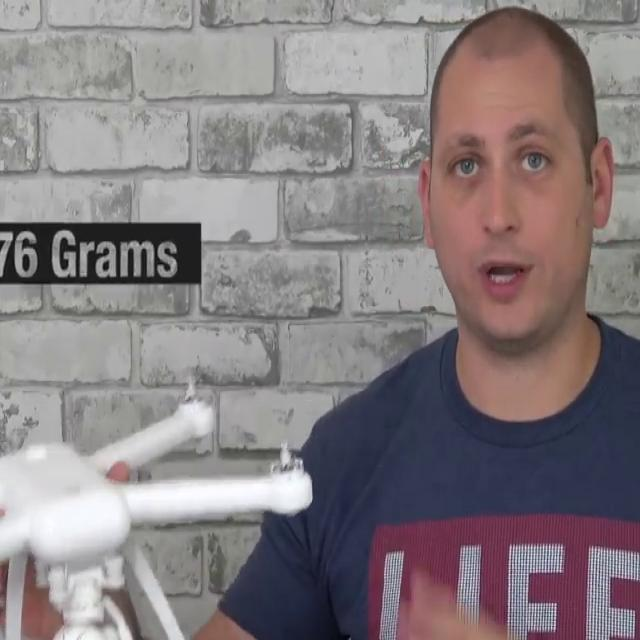drone: (0, 371, 321, 593)
